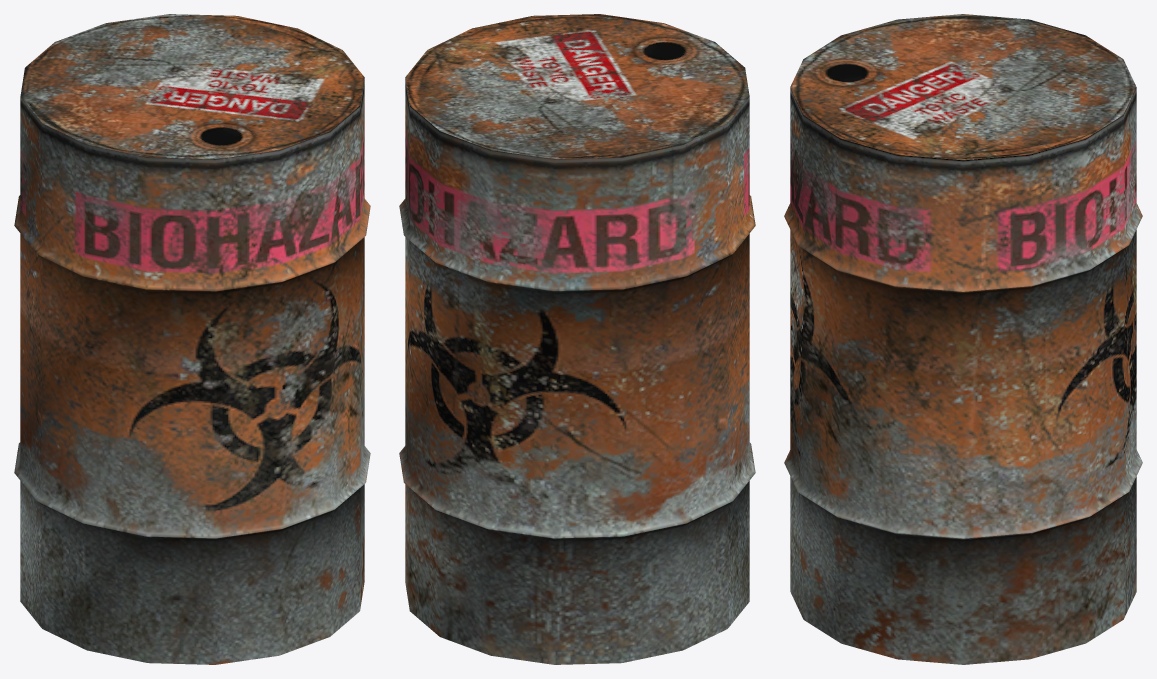
File: barrel_rusty.glb
3 views of the same model, side by side, from view 1: azimuth 30°, elevation 25°; view 2: azimuth 150°, elevation 25°; view 3: azimuth 270°, elevation 25° (orthographic).
Parts seen in each view (by area): view 1: RustyBarrel1_RustyBarrel2_0; view 2: RustyBarrel1_RustyBarrel2_0; view 3: RustyBarrel1_RustyBarrel2_0.
Boxes of the visible parts, box(x1,y1,x2,y2) form: RustyBarrel1_RustyBarrel2_0: box(14, 14, 370, 664); RustyBarrel1_RustyBarrel2_0: box(399, 14, 755, 664); RustyBarrel1_RustyBarrel2_0: box(784, 14, 1142, 664).
Size of the model in its own units: 0.5524 by 0.8574 by 0.5526.
Materials: 1 (1 with a texture image).
